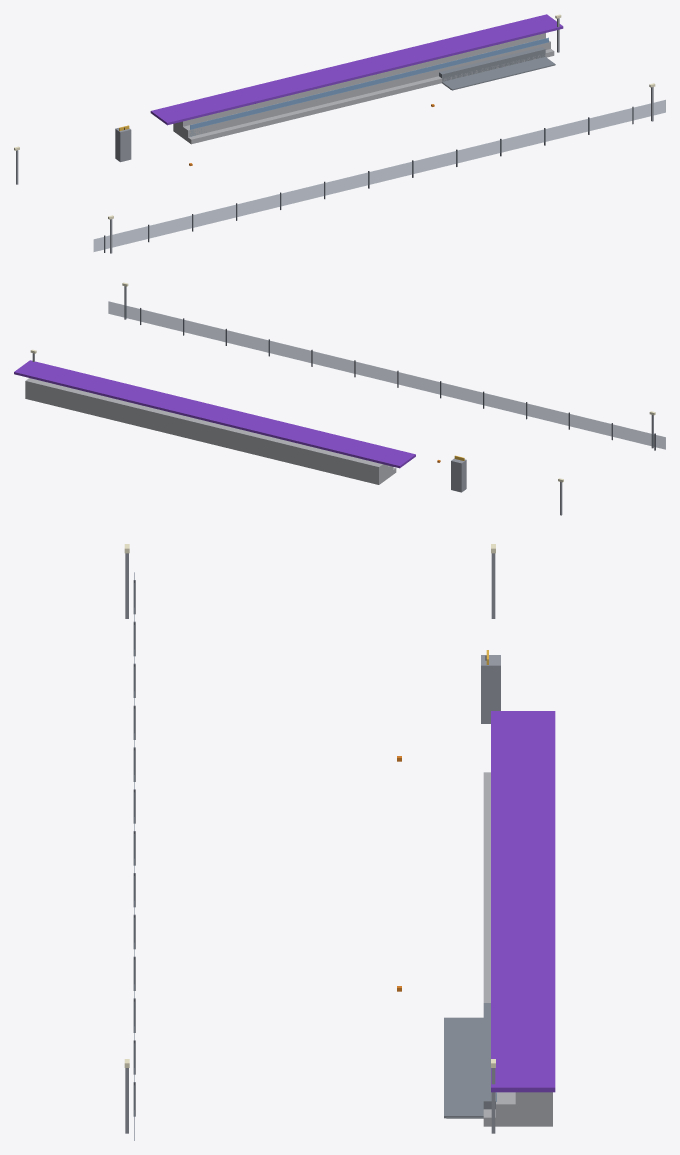
The model's file is venue_19.obj.
3 views of the same model, one above another, from view 1: azimuth 30°, elevation 25°; view 2: azimuth 150°, elevation 25°; view 3: azimuth 270°, elevation 25° (orthographic). The views are drawn at different scales.
Bounding box in the file's own units: 520 × 32 × 174.
